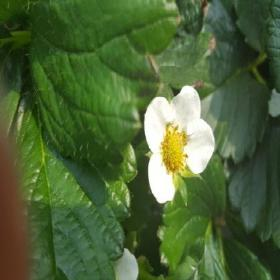Blossom Blight: (159, 122, 190, 176)
